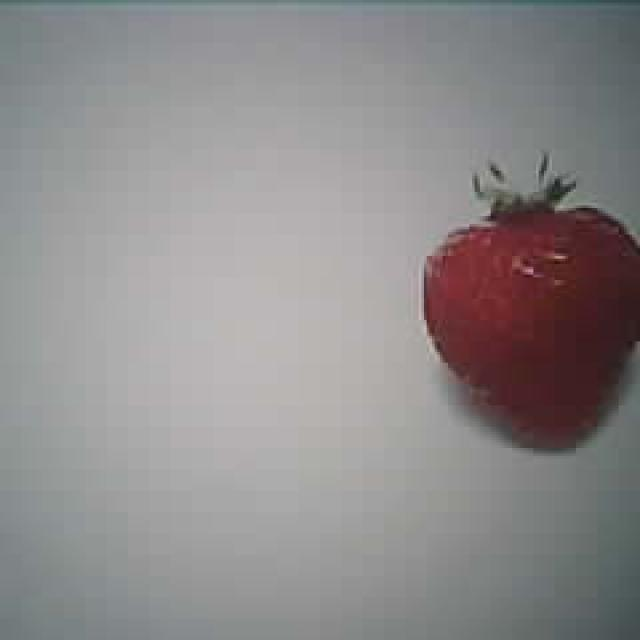ripe: (420, 210, 636, 452)
